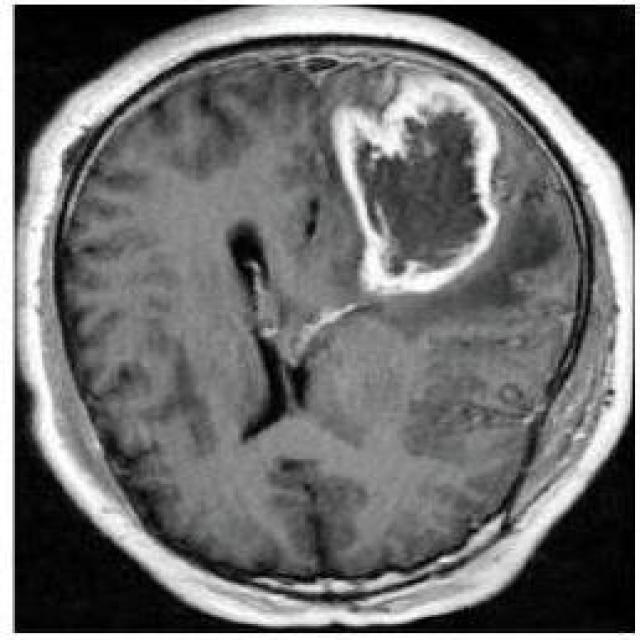brain tumor: (332, 76, 501, 291)
